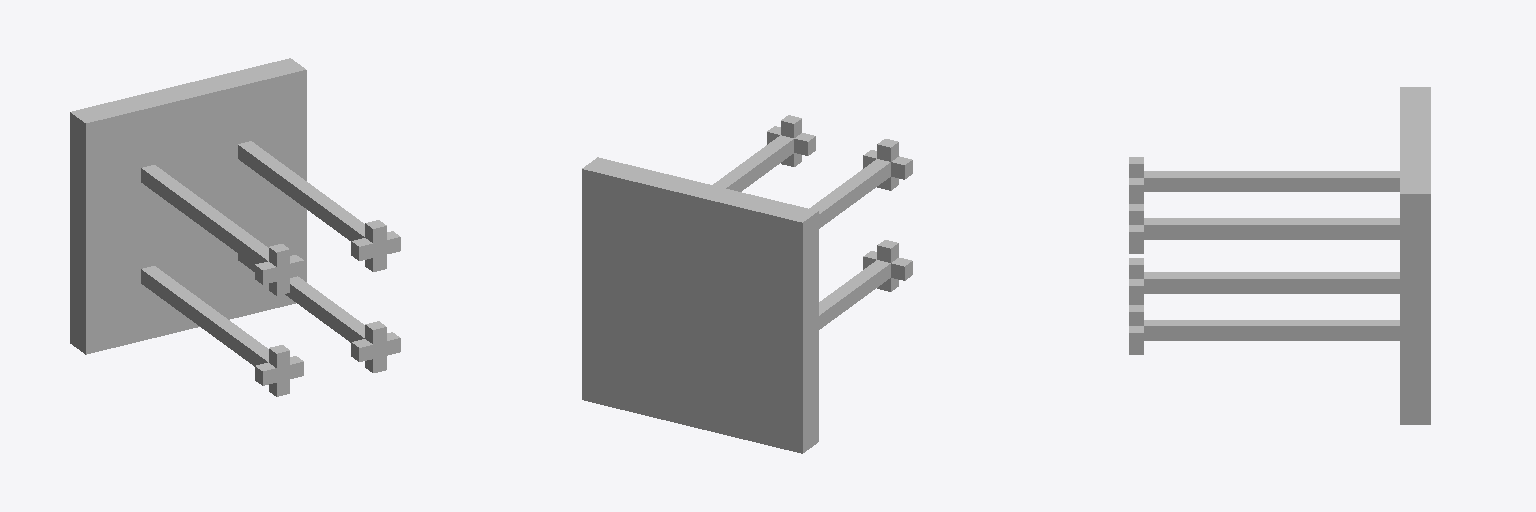
File: reinforcement_up.obj
3 views of the same model, side by side, from view 1: azimuth 30°, elevation 25°; view 2: azimuth 150°, elevation 25°; view 3: azimuth 270°, elevation 25° (orthographic).
Visible parts, largest first — view 1: cube; view 2: cube; view 3: cube.
Part boxes in pixels (left/top/right/bottom): cube: left=70, top=58, right=400, bottom=396; cube: left=582, top=115, right=912, bottom=453; cube: left=1129, top=87, right=1430, bottom=424.
Size of the model in its own units: 1 by 1 by 1.19.